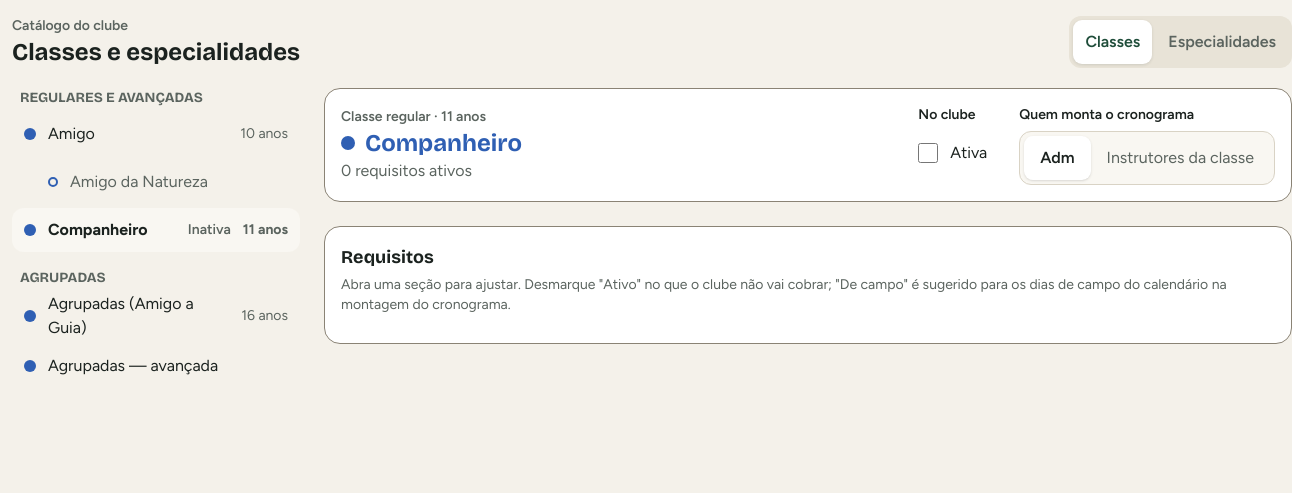
Test: A5 · classes · lista e detalhe › ?classe= abre a classe pedida e clicar em outra troca o parâmetro
The image size is (1292, 493).
Expected: the heading "Companheiro" is shown, [365,127,522,159]
Click the button named "Amigo10".
click(71, 134)  # box [12,112,300,156]
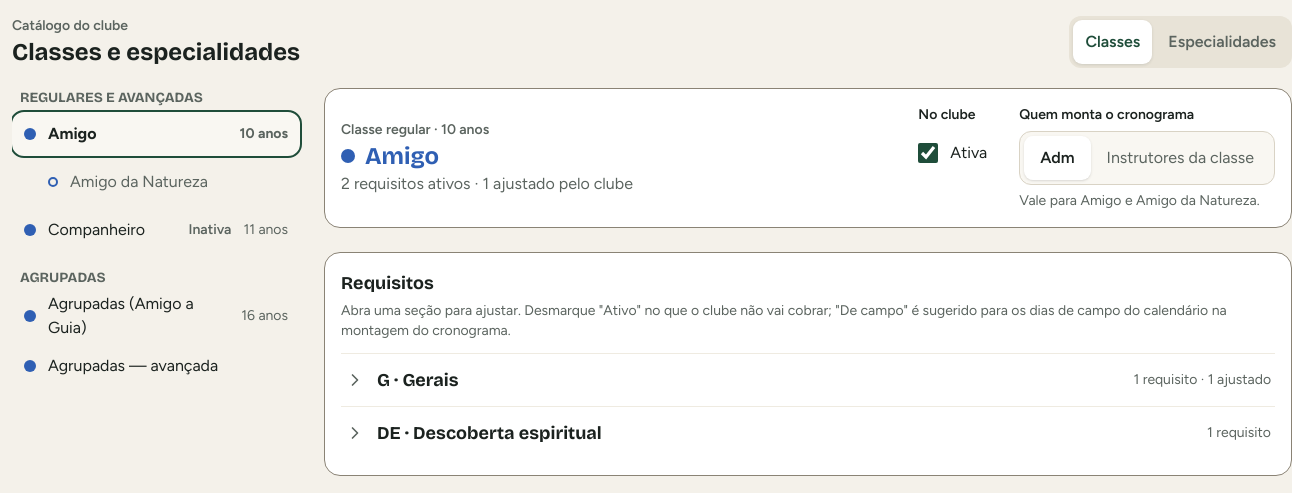
Result: the heading "Amigo" is shown at [365,140,439,172]
